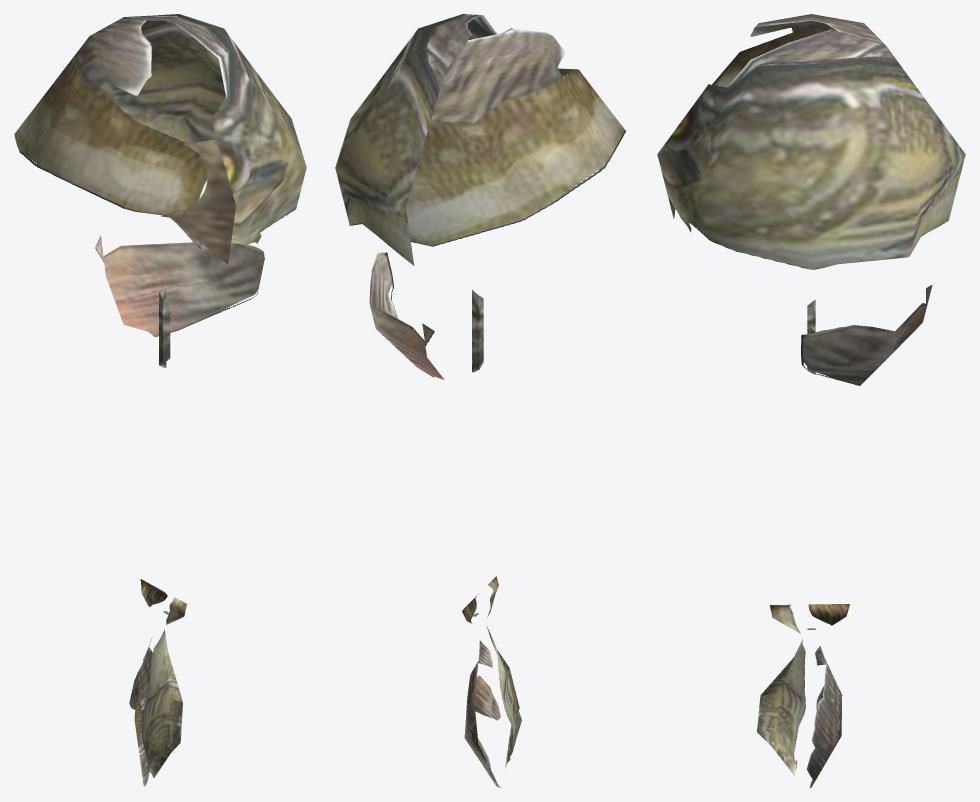
Rendered from balloon_exp_001.dae.
3 renders of one model, left to right at view 1: azimuth 30°, elevation 25°; view 2: azimuth 150°, elevation 25°; view 3: azimuth 270°, elevation 25°, orthographic.
Visible parts, largest first — view 1: pike_lowRes_geo_001; view 2: pike_lowRes_geo_001; view 3: pike_lowRes_geo_001.
Part boxes in pixels (box(x1,y1,x2,y2)): pike_lowRes_geo_001: box(14, 14, 306, 786); pike_lowRes_geo_001: box(335, 14, 625, 787); pike_lowRes_geo_001: box(657, 14, 965, 787).
Size of the model in its own units: 2.43 by 2.43 by 6.72.
